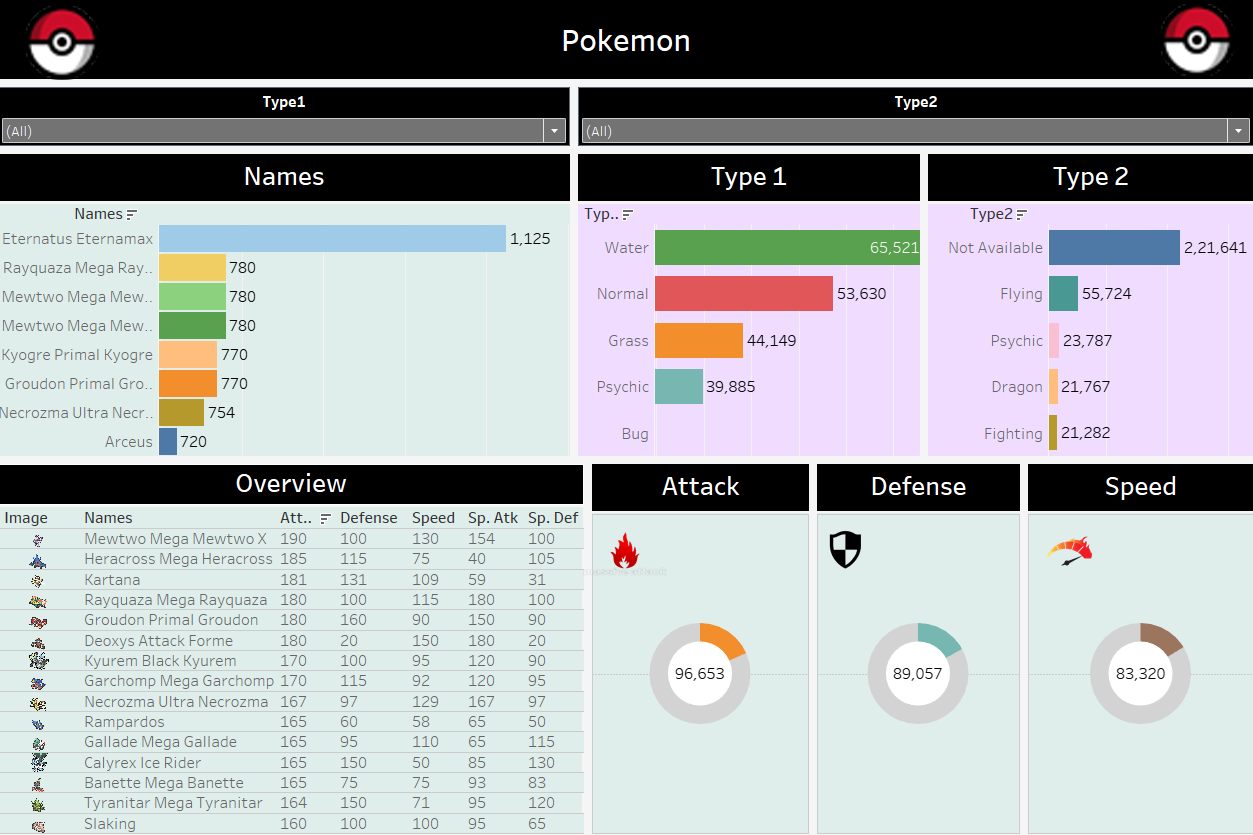

The page's visual inventory and layout, read from the dashboard file:
{"tool":"tableau","page":{"name":"Final_dashboard","canvas":[1000,1000],"units":"permille","ordinal":1},"visuals":[{"type":"title","box":[6.2,9.3,987.5,103.5]},{"type":"image","param":"Image/download (1) 1.png","box":[917.2,19.8,74.2,87.2]},{"type":"image","param":"Image/download (1).png","box":[30.5,22.1,74.2,87.2]},{"type":"filter","title":"Attack","param":"[federated.04s74bi0bnoxaq1duaovr0mett2c].[none:Type1:nk]","box":[6.2,112.8,453.1,77.9]},{"type":"filter","title":"Attack","param":"[federated.04s74bi0bnoxaq1duaovr0mett2c].[none:Type2:nk]","box":[459.4,112.8,534.4,77.9]},{"type":"worksheet","title":"Names","mark":"Automatic","rows":["Names"],"cols":["Total"],"box":[6.2,190.7,453.1,361]},{"type":"worksheet","title":"type1","mark":"Automatic","rows":["Type1"],"cols":["Total"],"box":[459.4,190.7,273.4,361]},{"type":"worksheet","title":"type2","mark":"Automatic","rows":["Type2"],"cols":["Total"],"box":[732.8,190.7,260.9,361]},{"type":"worksheet","title":"Overview","mark":"Automatic","rows":["image_url","Names","Attack","Defense","Speed","Sp. Atk","Sp. Def","Total"],"box":[6.2,551.7,464.1,439]},{"type":"worksheet","title":"Attack","mark":"Pie","rows":["Attack","Attack"],"box":[470.3,551.7,175.8,439]},{"type":"worksheet","title":"Defense","mark":"Pie","rows":["Defense","Defense"],"box":[646.1,551.7,164.8,439]},{"type":"worksheet","title":"Speed","mark":"Pie","rows":["Speed","Speed"],"box":[810.9,551.7,182.8,439]},{"type":"image","param":"Image/download__3_-removebg-preview.png","box":[465.6,609.3,75.8,101.2]},{"type":"image","param":"Image/images-removebg-preview.png","box":[825,624.4,46.1,62.8]},{"type":"image","param":"Image/download__4_-removebg-preview.png","box":[658.6,631.4,29.7,46.5]}]}

Visuals, with their boxes on the dashboard's canvas, which has no fixed pixel size, in thousandths of its width and height (x1, y1, x2, y2). These are canvas units, not pixel positions in the 1253x835 screenshot, which may show the page scaled, cropped or inside an application window:
title: <region>6, 9, 994, 113</region>
image: <region>917, 20, 991, 107</region>
image: <region>30, 22, 105, 109</region>
"Attack" filter: <region>6, 113, 459, 191</region>
"Attack" filter: <region>459, 113, 994, 191</region>
"Names" worksheet: <region>6, 191, 459, 552</region>
"type1" worksheet: <region>459, 191, 733, 552</region>
"type2" worksheet: <region>733, 191, 994, 552</region>
"Overview" worksheet: <region>6, 552, 470, 991</region>
"Attack" worksheet (Pie marks): <region>470, 552, 646, 991</region>
"Defense" worksheet (Pie marks): <region>646, 552, 811, 991</region>
"Speed" worksheet (Pie marks): <region>811, 552, 994, 991</region>
image: <region>466, 609, 541, 710</region>
image: <region>825, 624, 871, 687</region>
image: <region>659, 631, 688, 678</region>
